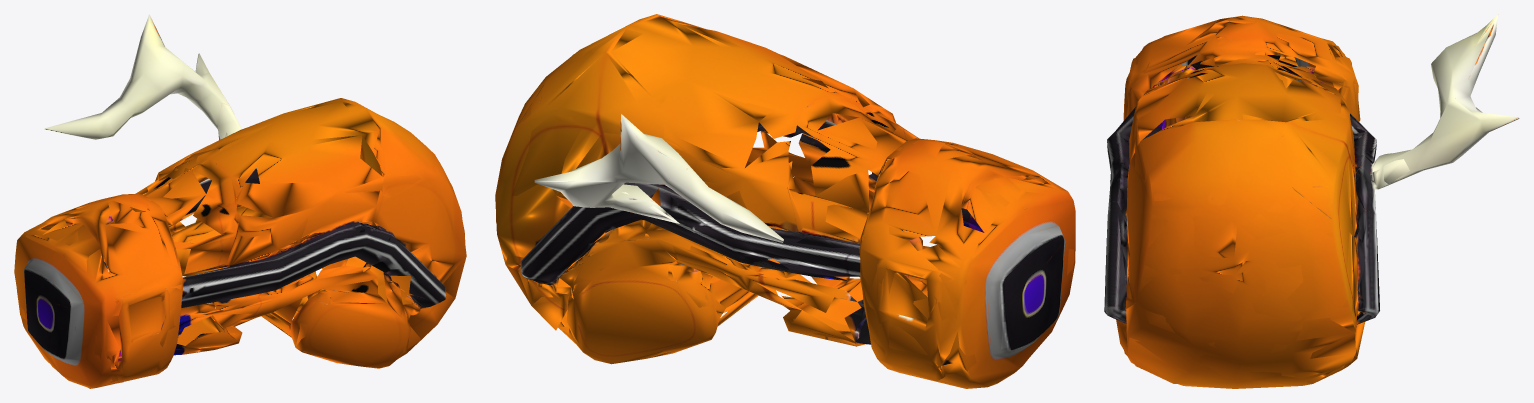
The model's file is powerup_haymaker.glb.
3 views of the same model, side by side, from view 1: azimuth 30°, elevation 25°; view 2: azimuth 150°, elevation 25°; view 3: azimuth 270°, elevation 25° (orthographic). The views are drawn at different scales.
Visible parts, largest first — view 1: Mesh1.0; view 2: Mesh1.0; view 3: Mesh1.0.
Part boxes in pixels (x1,y1,x2,y2): Mesh1.0: [14, 14, 466, 388]; Mesh1.0: [495, 14, 1075, 388]; Mesh1.0: [1104, 14, 1519, 388].
Bounding box in the file's own units: 0.85 × 0.5517 × 0.6635.
1 material, 1 textured.
